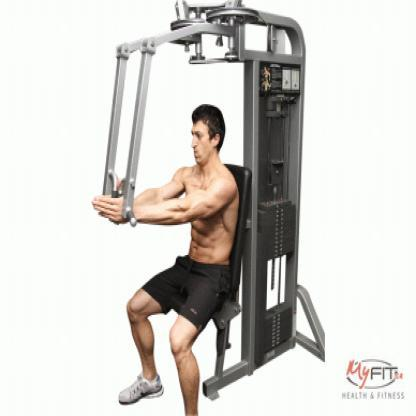chest fly machine: (87, 0, 330, 416)
